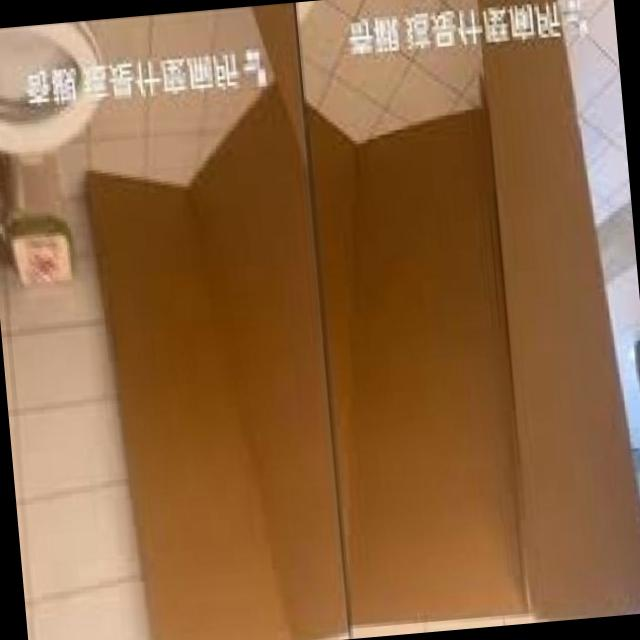cardboard paper: (86, 0, 640, 640)
